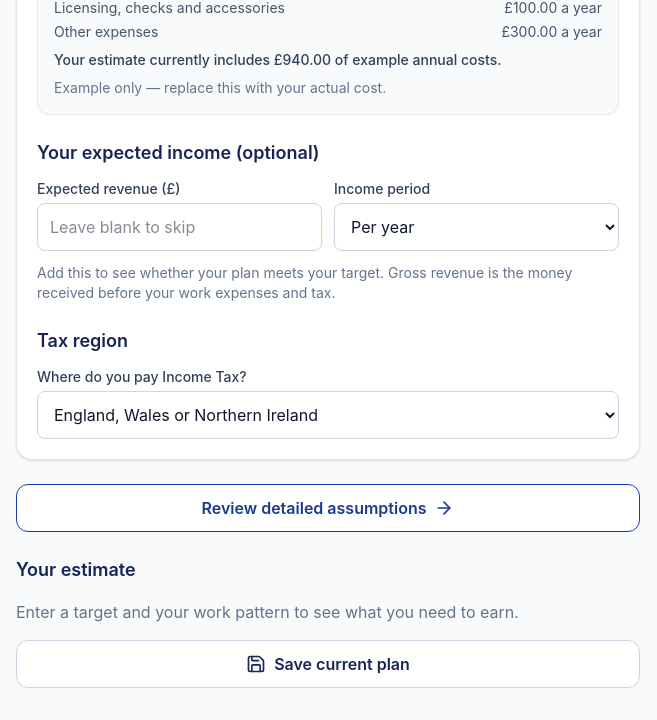
it: QuickEstimate › saves the active plan to the library from Quick estimate
(page scrolled)
Click the button "Save current plan" at (328,664), box [16, 640, 640, 688]
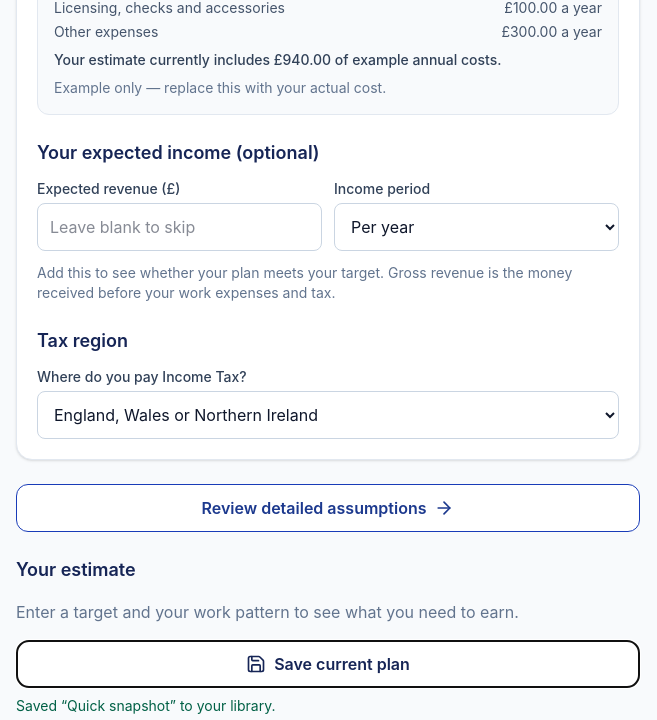
Now the message shows "Quick snapshot", box [16, 697, 275, 714]
